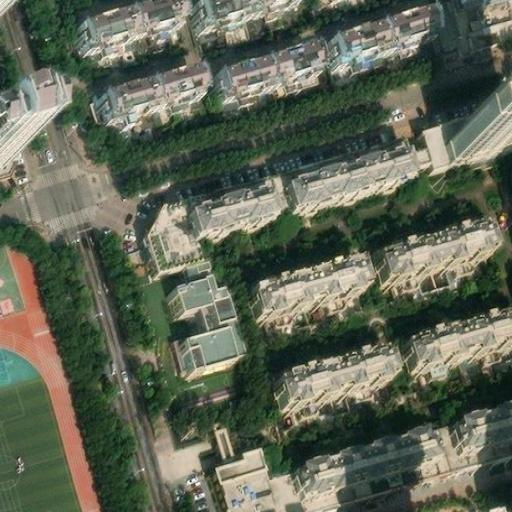building: (148, 124, 417, 264), (215, 420, 512, 512), (292, 420, 435, 494), (283, 140, 412, 206), (175, 249, 249, 362), (275, 335, 397, 401), (375, 212, 493, 277), (404, 298, 512, 364), (252, 249, 368, 310), (327, 0, 433, 58), (97, 57, 202, 114), (213, 35, 318, 92), (421, 93, 512, 158), (186, 177, 273, 230), (76, 0, 178, 41), (448, 99, 512, 156), (448, 395, 512, 447)
